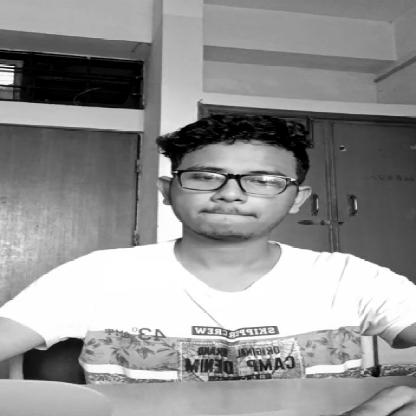Normal: (159, 122, 311, 245)
